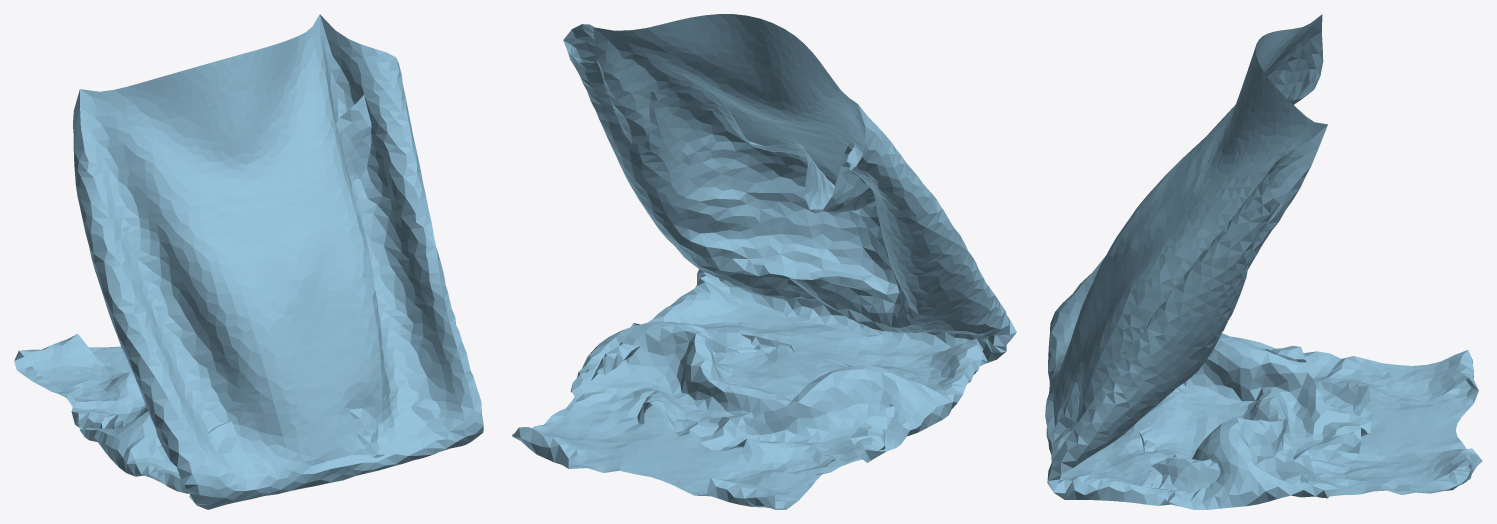
The model's file is frame_15.glb.
3 renders of one model, left to right at view 1: azimuth 30°, elevation 25°; view 2: azimuth 150°, elevation 25°; view 3: azimuth 270°, elevation 25°, orthographic. The views are drawn at different scales.
Visible parts, largest first — view 1: frame_15.obj; view 2: frame_15.obj; view 3: frame_15.obj.
Boxes of the visible parts, bbox=[...] form: frame_15.obj: bbox=[14, 14, 483, 509]; frame_15.obj: bbox=[512, 14, 1016, 509]; frame_15.obj: bbox=[1045, 14, 1482, 509].
Bounding box in the file's own units: 0.8551 × 0.9063 × 0.9376.
